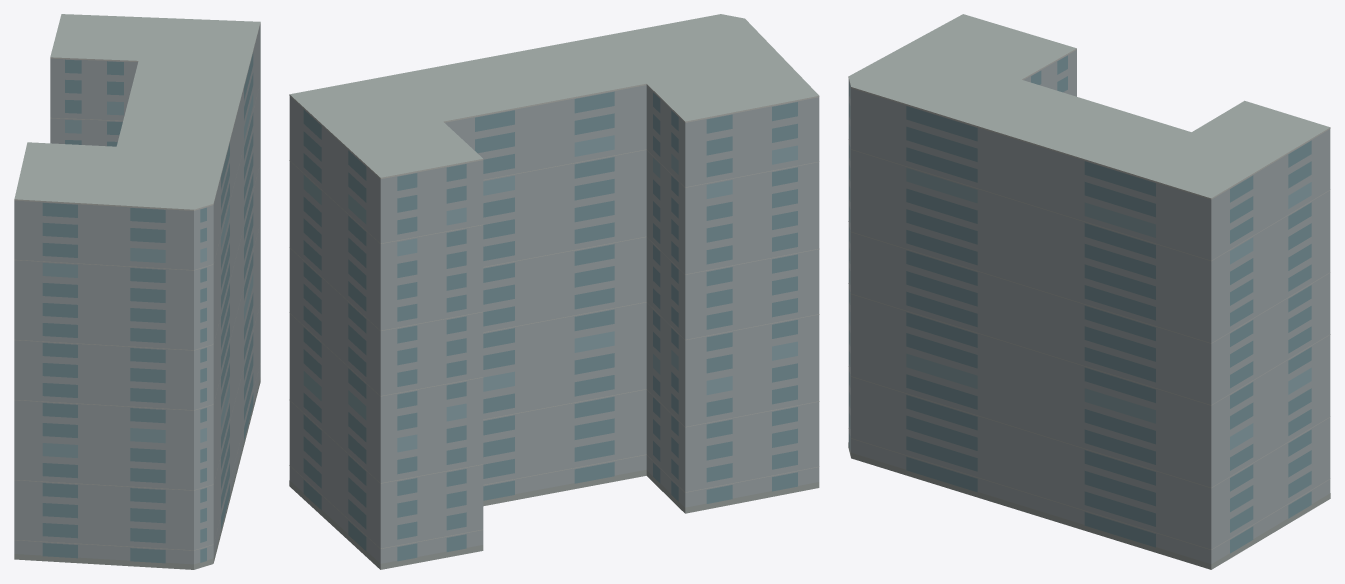
The model's file is survey-upis-32691881.glb.
The picture shows the model from 3 angles, left to right: view 1: azimuth 30°, elevation 25°; view 2: azimuth 150°, elevation 25°; view 3: azimuth 270°, elevation 25°; orthographic projection. The views are drawn at different scales.
Visible parts, largest first — view 1: survey-upis-32691881.tmp; view 2: survey-upis-32691881.tmp; view 3: survey-upis-32691881.tmp.
Boxes of the visible parts, x1,y1,x2,y2 form: survey-upis-32691881.tmp: (14,14,260,569); survey-upis-32691881.tmp: (289,14,819,569); survey-upis-32691881.tmp: (848,14,1330,569).
Size of the model in its own units: 72.43 by 68 by 79.98.
